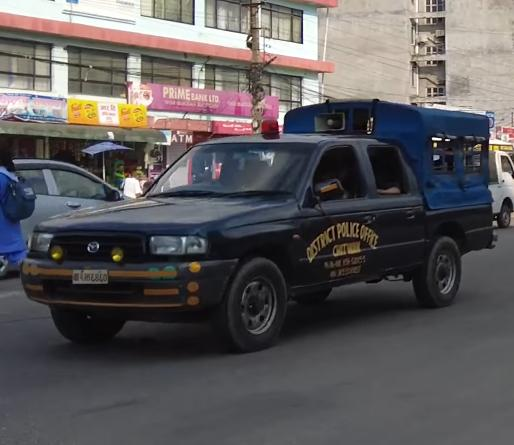police_vehicle: (15, 93, 499, 357)
